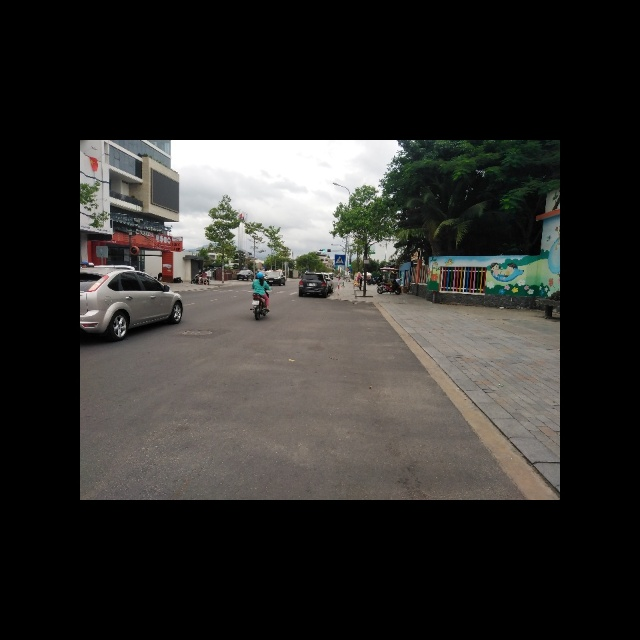Đường dành cho người đi bộ: (334, 254, 345, 265)
